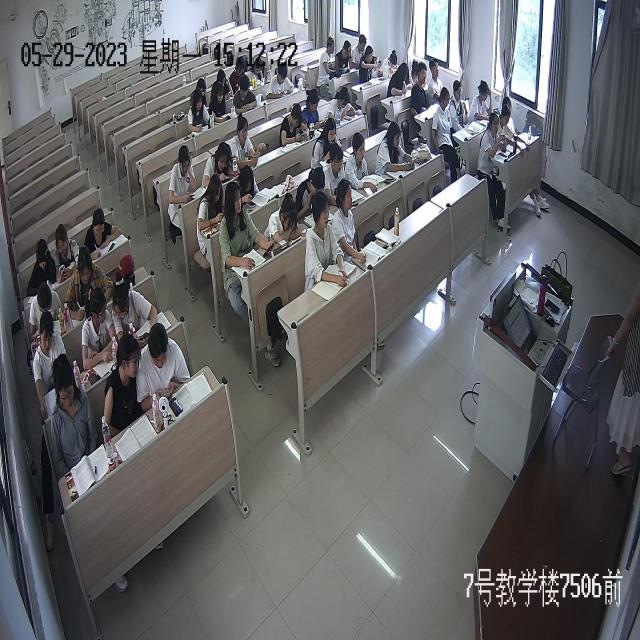distracted: (51, 357, 97, 468), (104, 334, 144, 434), (80, 287, 121, 370), (111, 277, 156, 342), (233, 112, 266, 172), (318, 32, 337, 80), (334, 41, 357, 76), (408, 59, 421, 91)
focused: (220, 184, 275, 272), (306, 193, 346, 288), (68, 248, 114, 317), (33, 311, 66, 395), (334, 179, 365, 264), (346, 130, 379, 202), (86, 207, 124, 259), (196, 176, 226, 236), (28, 286, 64, 334), (298, 165, 329, 220), (28, 236, 57, 293), (312, 114, 342, 167), (323, 144, 350, 202), (433, 84, 456, 149), (478, 112, 507, 161), (267, 62, 295, 103), (449, 80, 471, 132), (232, 76, 260, 116), (426, 56, 448, 106), (410, 65, 431, 116), (208, 82, 232, 124), (470, 82, 492, 126), (387, 61, 411, 99), (496, 103, 517, 144), (230, 52, 251, 90), (358, 44, 379, 82), (350, 32, 370, 68), (380, 48, 400, 84), (248, 58, 268, 86)
sleep: (270, 194, 302, 247)
using_phone: (137, 323, 188, 411), (377, 120, 417, 176), (167, 143, 200, 207), (53, 224, 81, 284), (204, 144, 237, 189), (279, 101, 311, 146), (186, 89, 213, 134), (235, 163, 259, 212), (327, 86, 357, 125), (302, 91, 327, 136), (215, 67, 236, 104)
